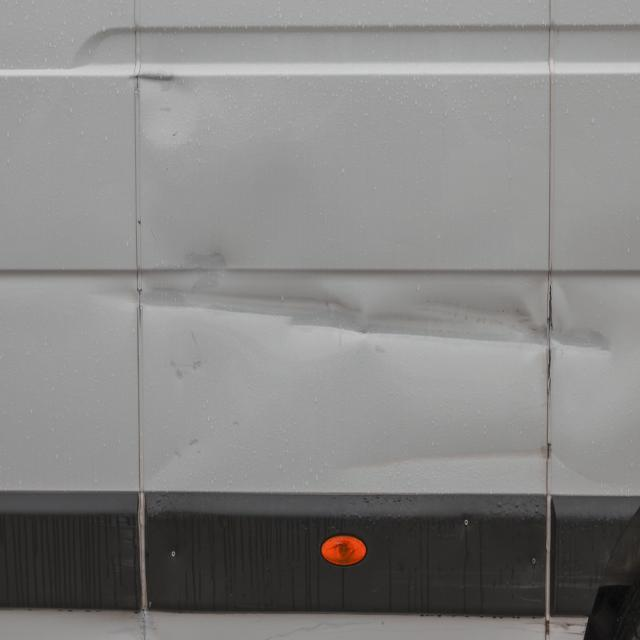dent: (141, 249, 545, 349), (549, 277, 613, 360), (140, 76, 196, 146)
